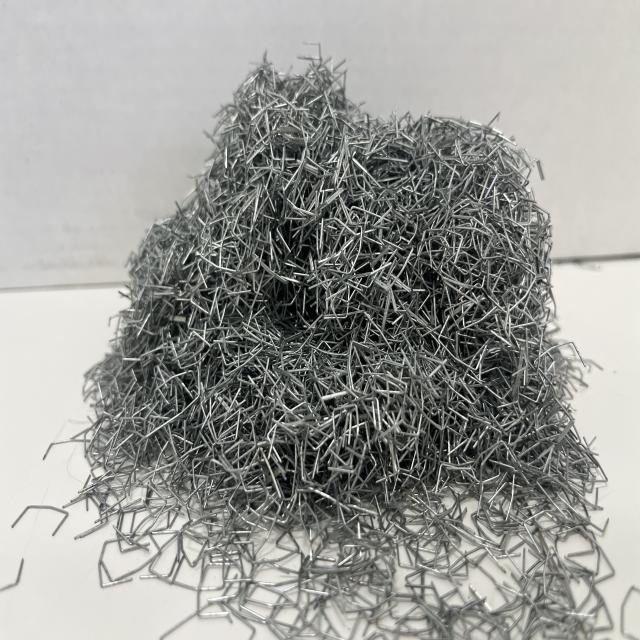staples: (16, 40, 623, 636)
